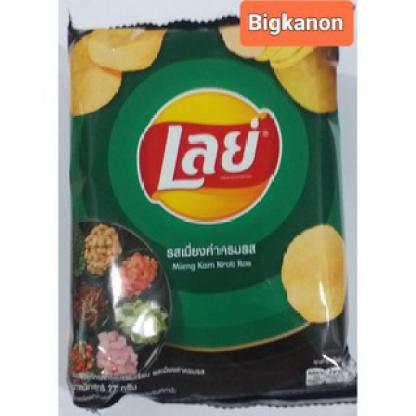potatochip: (60, 7, 364, 414)
